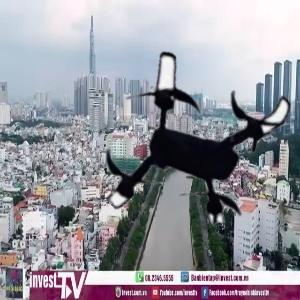drone: (90, 31, 300, 241)
